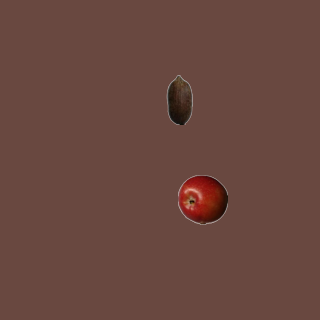Apple Braeburn: (177, 174, 227, 224)
Nut Pecan: (154, 74, 204, 124)
